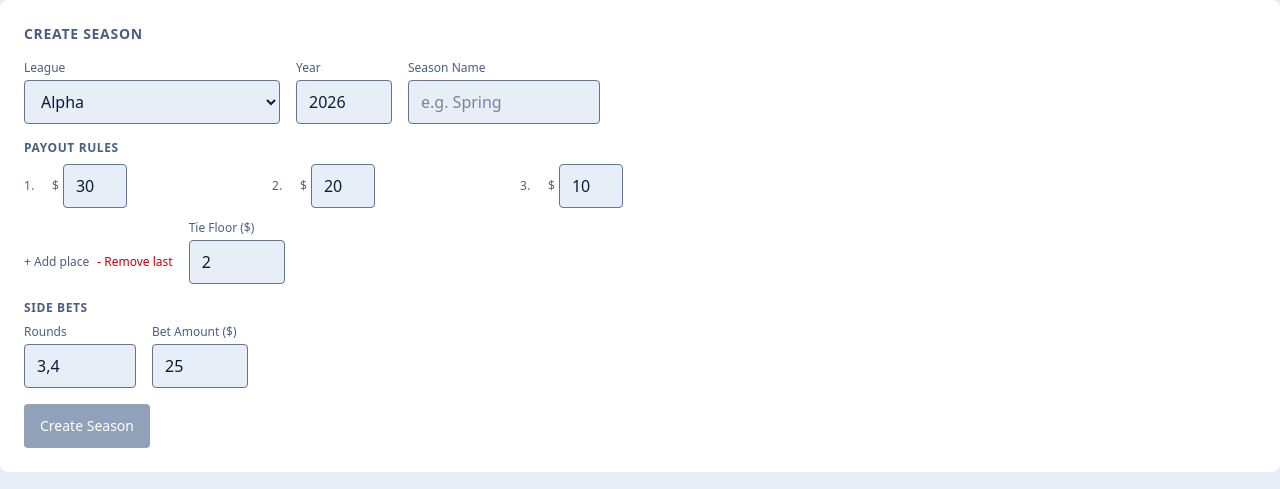
Test: CreateSeasonSection › lets the user add and remove payout places
Expected: the dropdown labelled "League" shows "Alpha", top-left (24, 80), bottom-right (280, 124)
Expected: the number of number fields named "Payout 1" is 3, top-left (63, 164), bottom-right (127, 208); top-left (311, 164), bottom-right (375, 208); top-left (559, 164), bottom-right (623, 208)
Click the button "+ Add place": {"x": 57, "y": 262} top-left (24, 240), bottom-right (89, 284)
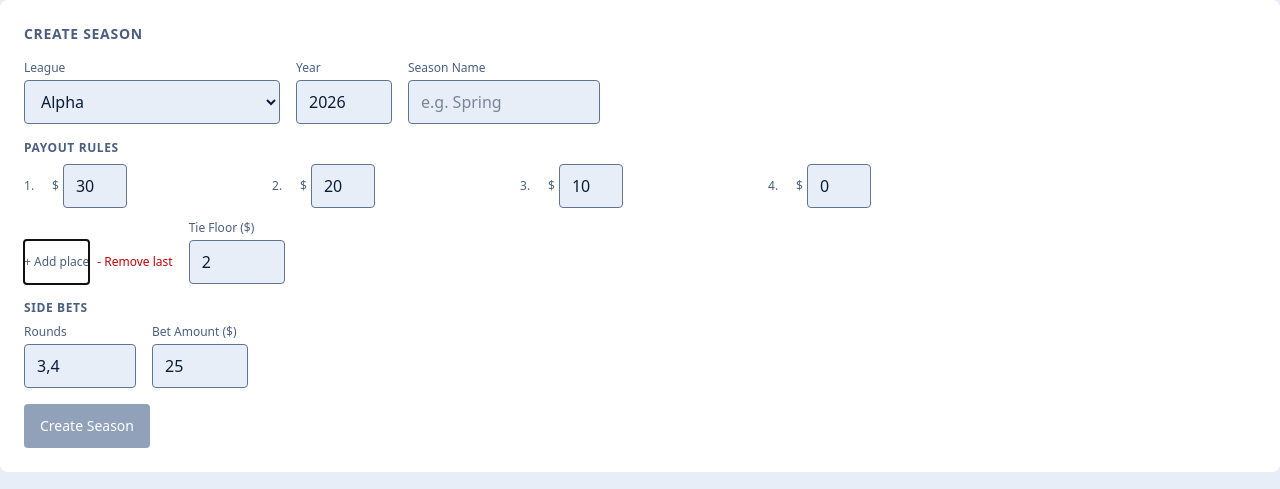
Now the number of number fields named "Payout 1" is 4, box top-left (63, 164), bottom-right (127, 208); top-left (311, 164), bottom-right (375, 208); top-left (559, 164), bottom-right (623, 208); top-left (807, 164), bottom-right (871, 208)
Click the button "- Remove last": {"x": 135, "y": 262} top-left (97, 240), bottom-right (173, 284)
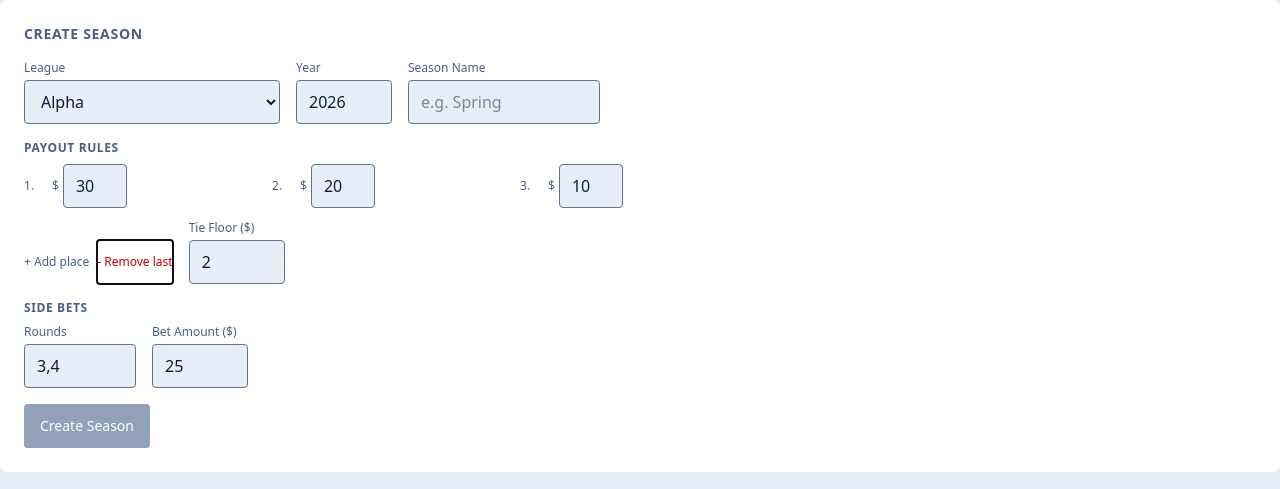
Now the number of number fields named "Payout 1" is 3, box top-left (63, 164), bottom-right (127, 208); top-left (311, 164), bottom-right (375, 208); top-left (559, 164), bottom-right (623, 208)
